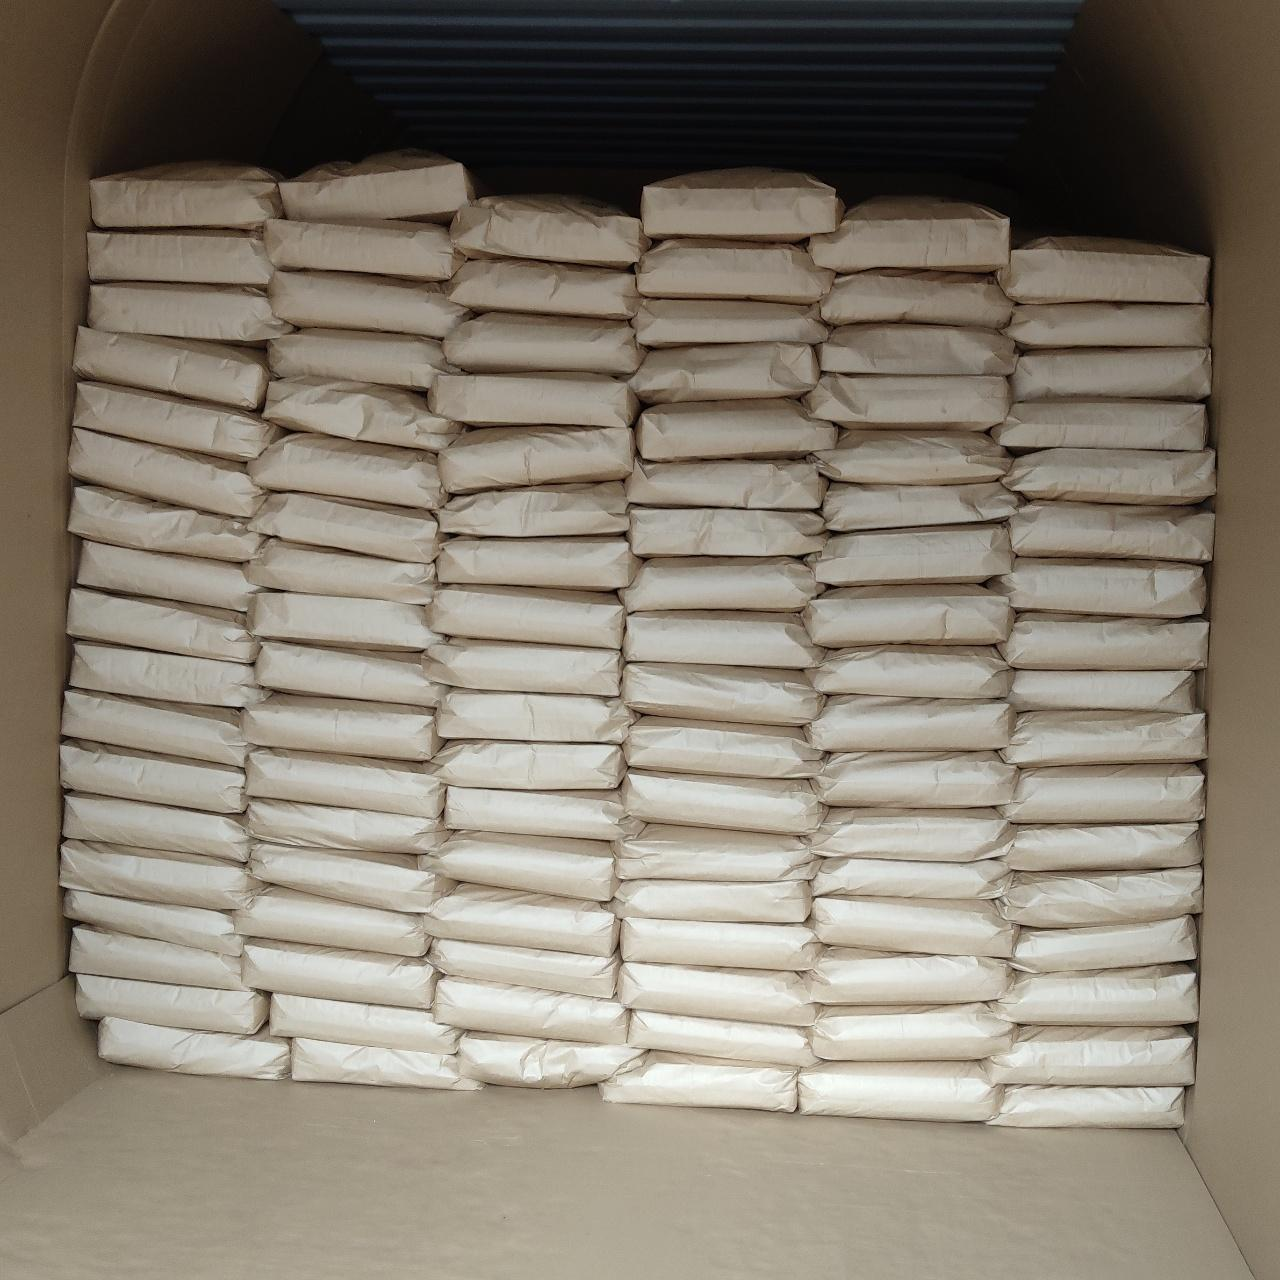sack: (70, 429, 263, 518), (72, 382, 282, 459), (73, 327, 268, 410), (810, 197, 1009, 273), (248, 433, 444, 509), (642, 166, 844, 240), (72, 486, 263, 561), (451, 196, 648, 268), (248, 843, 455, 912), (61, 839, 263, 910), (263, 379, 459, 450), (280, 150, 474, 223), (67, 588, 257, 662), (998, 236, 1207, 302), (62, 690, 248, 765), (246, 748, 444, 818), (425, 884, 617, 956), (233, 887, 429, 956), (61, 741, 245, 813), (422, 832, 618, 900), (241, 939, 434, 1008), (268, 271, 467, 338), (438, 425, 633, 493), (241, 694, 441, 760), (803, 585, 1013, 647), (433, 976, 627, 1043), (76, 542, 258, 613), (91, 162, 282, 230), (808, 894, 1014, 956), (989, 558, 1207, 617), (250, 493, 440, 560), (443, 313, 644, 376), (982, 1026, 1194, 1085), (1001, 866, 1201, 928), (427, 586, 622, 649), (636, 239, 832, 302), (621, 772, 821, 835), (806, 525, 1013, 585), (69, 642, 260, 707), (243, 539, 437, 602), (617, 962, 815, 1024), (798, 1061, 1003, 1121), (636, 399, 837, 459), (1010, 502, 1214, 561), (622, 663, 821, 724), (89, 282, 291, 342), (62, 797, 248, 862), (624, 717, 821, 778), (1002, 448, 1216, 504), (803, 374, 1012, 431), (264, 219, 459, 280), (1001, 964, 1197, 1024), (98, 1017, 290, 1080), (256, 642, 440, 707), (64, 888, 241, 955), (600, 1051, 797, 1111), (622, 611, 823, 669), (268, 329, 457, 392), (69, 925, 246, 990), (804, 947, 1009, 1003), (422, 639, 622, 696), (271, 992, 459, 1053), (629, 342, 818, 403), (999, 614, 1207, 669), (76, 974, 268, 1034), (821, 271, 1013, 331), (806, 696, 1014, 751), (445, 260, 639, 319), (809, 1005, 1014, 1060), (1002, 765, 1203, 822), (428, 374, 636, 428), (614, 825, 813, 881), (247, 592, 437, 651), (428, 939, 617, 998), (1002, 712, 1206, 765), (818, 751, 1017, 806), (438, 481, 629, 537), (809, 808, 1007, 862), (250, 799, 443, 855), (1012, 347, 1208, 401), (437, 536, 638, 588), (621, 558, 822, 611), (626, 456, 826, 509), (627, 1009, 813, 1065), (444, 787, 636, 840), (992, 402, 1207, 450), (621, 918, 821, 969), (1013, 915, 1194, 972), (813, 646, 1012, 697), (437, 689, 634, 741), (89, 233, 273, 288), (816, 433, 1012, 484), (457, 1033, 644, 1087), (821, 482, 1023, 531), (818, 326, 1014, 375), (291, 1039, 481, 1089), (1000, 823, 1201, 870), (628, 508, 823, 556), (1005, 302, 1208, 348), (629, 300, 828, 347), (430, 743, 625, 788), (612, 880, 810, 922), (811, 857, 1008, 899), (986, 1085, 1183, 1128), (1008, 672, 1194, 713)
